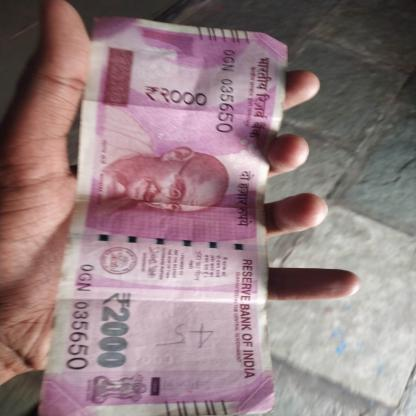New2000Front: (56, 24, 277, 416)
